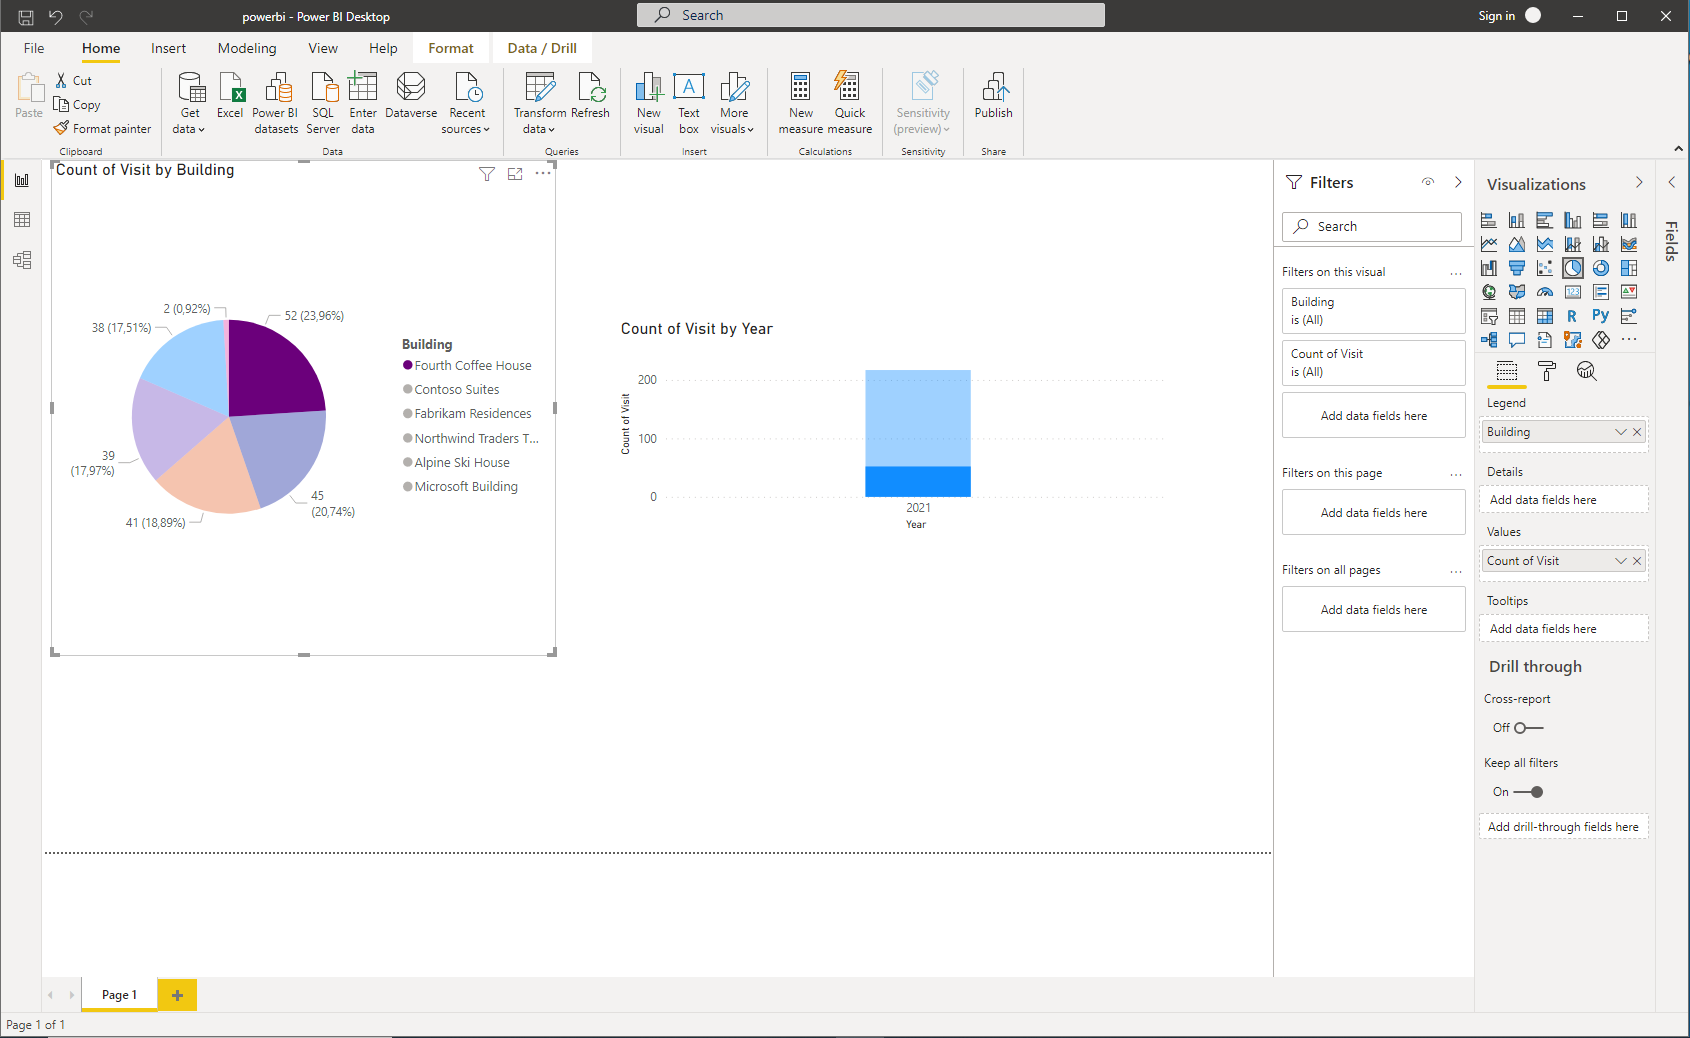

What the dashboard file says about the page in this screenshot:
{"tool":"powerbi","page":{"name":"Page 1","canvas":[1280,720],"ordinal":0},"visuals":[{"type":"pieChart","fields":{"Category":["bc_Visit.Building"],"Y":["CountNonNull(bc_Visit.Visit)"]},"box":[0,7.3,525.1,515.7],"z":0},{"type":"columnChart","fields":{"Y":["CountNonNull(bc_Visit.Visit)"],"Category":["bc_Visit.Start.Variation.Date Hierarchy.Year","bc_Visit.Start.Variation.Date Hierarchy.Month"]},"box":[596.8,164.3,598.9,223.6],"z":1}]}

Visuals, with their boxes on the page's 1280x720 design canvas (x1, y1, x2, y2). These are canvas units, not pixel positions in the 1690x1038 screenshot, which may show the page scaled, cropped or inside an application window:
pieChart - bc_Visit.Building x CountNonNull(bc_Visit.Visit): l=0, t=7, r=525, b=523
columnChart - CountNonNull(bc_Visit.Visit) x bc_Visit.Start.Variation.Date Hierarchy.Year: l=597, t=164, r=1196, b=388
